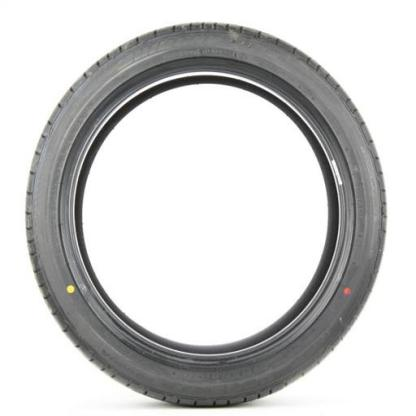Tire: (24, 22, 390, 409)
